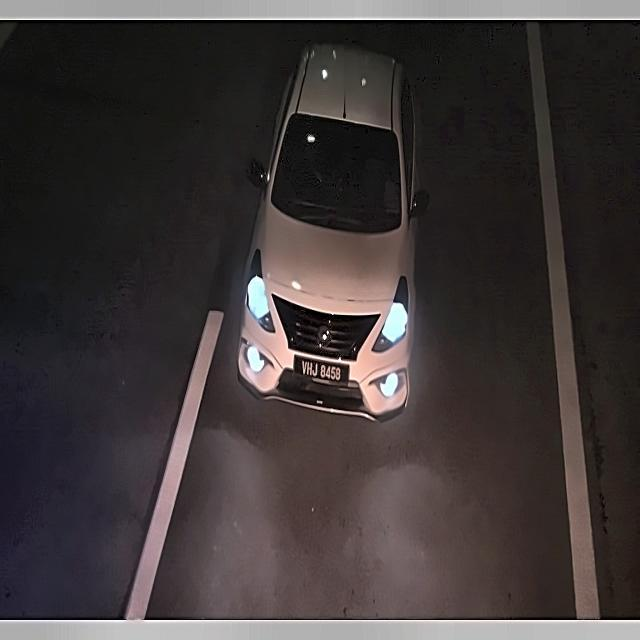car: (289, 353, 347, 389)
